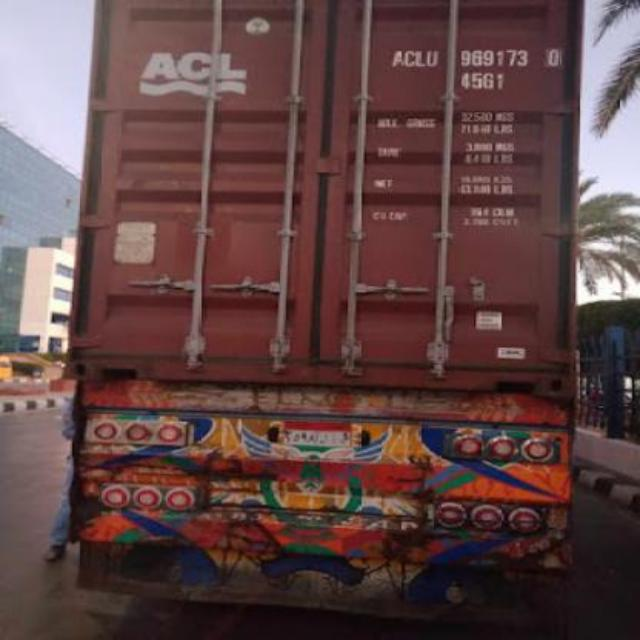0: (542, 48, 564, 64)
1: (496, 45, 506, 69)
3: (518, 49, 528, 69)
6: (472, 50, 484, 66)
7: (506, 49, 518, 65)
9: (458, 48, 472, 68), (486, 48, 494, 68)
A: (390, 48, 402, 68)
C: (404, 49, 416, 69)
L: (416, 50, 426, 66)
U: (426, 49, 438, 69)
